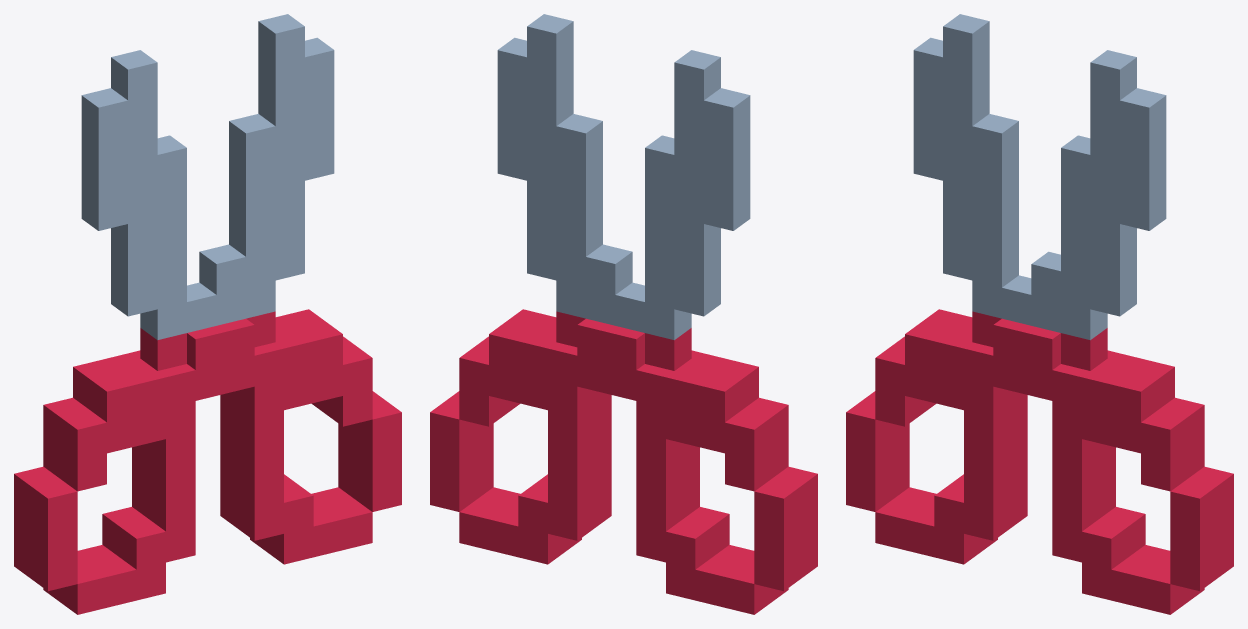
The model's file is Scissors.fbx.
3 renders of one model, left to right at view 1: azimuth 30°, elevation 25°; view 2: azimuth 150°, elevation 25°; view 3: azimuth 330°, elevation 25°, orthographic.
Parts seen in each view (by area): view 1: generated; view 2: generated; view 3: generated.
Boxes of the visible parts, left/top/right/bottom form: generated: left=14, top=14, right=401, bottom=614; generated: left=430, top=14, right=817, bottom=614; generated: left=846, top=14, right=1233, bottom=614.
Size of the model in its own units: 120 by 170 by 20.
